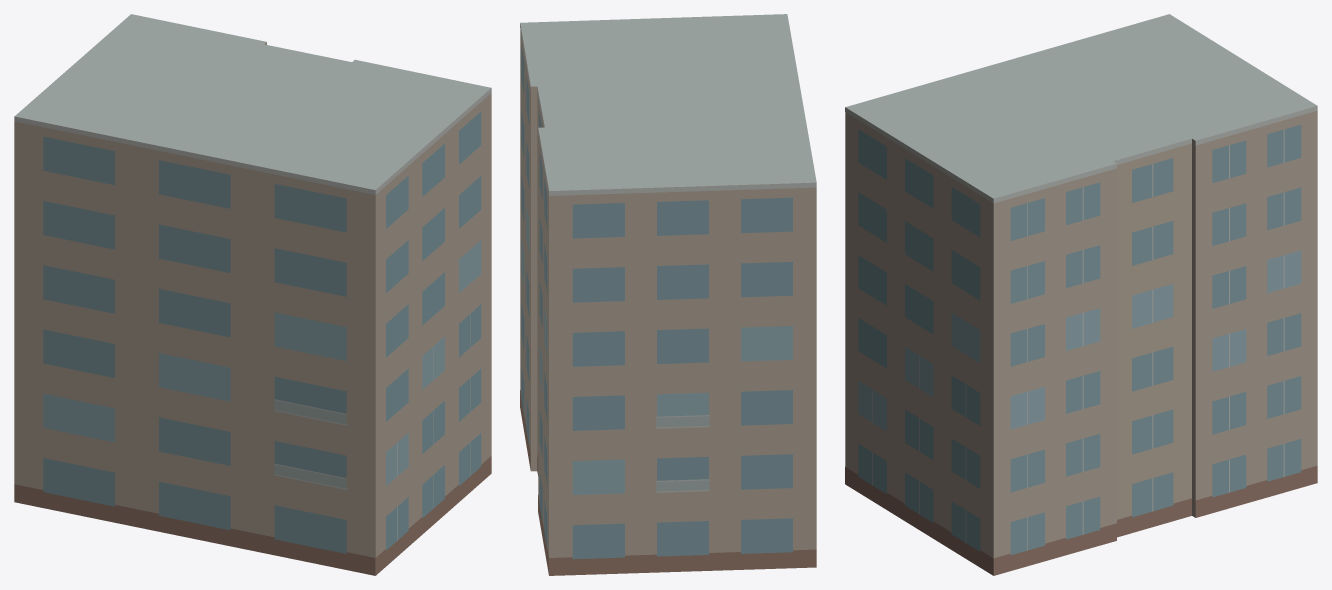
Rendered from survey-upis-32681662.glb.
3 renders of one model, left to right at view 1: azimuth 30°, elevation 25°; view 2: azimuth 150°, elevation 25°; view 3: azimuth 270°, elevation 25°, orthographic. The views are drawn at different scales.
Parts seen in each view (by area): view 1: survey-upis-32681662.tmp; view 2: survey-upis-32681662.tmp; view 3: survey-upis-32681662.tmp.
Part boxes in pixels (box(x1,y1,x2,y2)): survey-upis-32681662.tmp: box(14, 14, 491, 575); survey-upis-32681662.tmp: box(520, 14, 816, 575); survey-upis-32681662.tmp: box(845, 14, 1317, 575).
Size of the model in its own units: 20.39 by 19.4 by 22.04.
